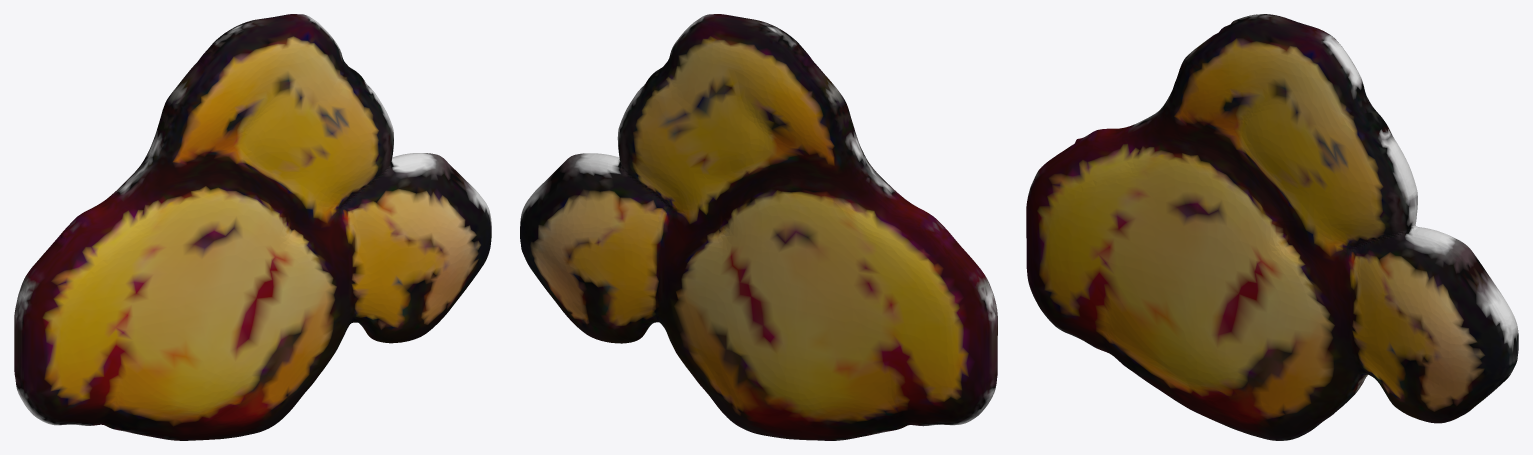
Rendered from potato.glb.
3 renders of one model, left to right at view 1: azimuth 30°, elevation 25°; view 2: azimuth 150°, elevation 25°; view 3: azimuth 330°, elevation 25°, orthographic. The views are drawn at different scales.
Parts seen in each view (by area): view 1: geometry_0; view 2: geometry_0; view 3: geometry_0.
Boxes of the visible parts, <box> form: geometry_0: <box>14,14,491,440</box>; geometry_0: <box>520,14,997,440</box>; geometry_0: <box>1026,14,1518,440</box>.
Size of the model in its own units: 0.5938 by 0.4922 by 0.0805.
